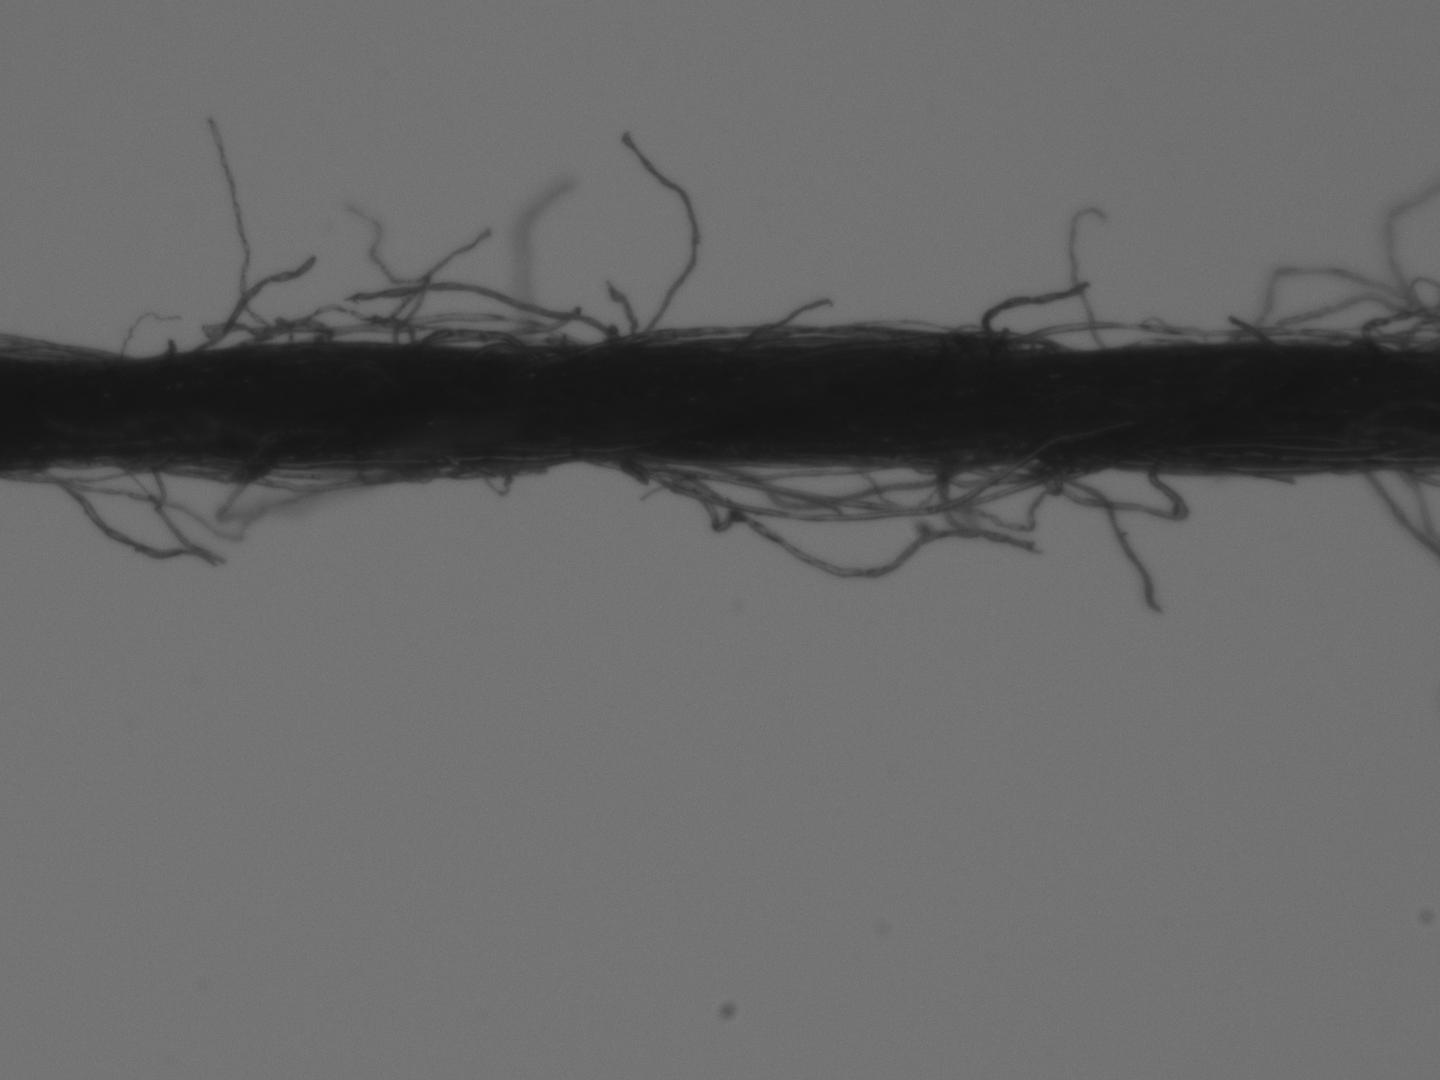loop_fiber: (645, 448, 1050, 520), (1033, 458, 1187, 524), (852, 454, 1020, 509), (126, 450, 282, 484), (238, 317, 331, 349), (418, 326, 515, 348), (477, 458, 509, 493)
protruding_fiber: (37, 457, 217, 563), (350, 279, 620, 343), (1047, 465, 1160, 615), (625, 118, 698, 338), (186, 259, 316, 347), (981, 275, 1094, 345), (743, 292, 835, 345)
